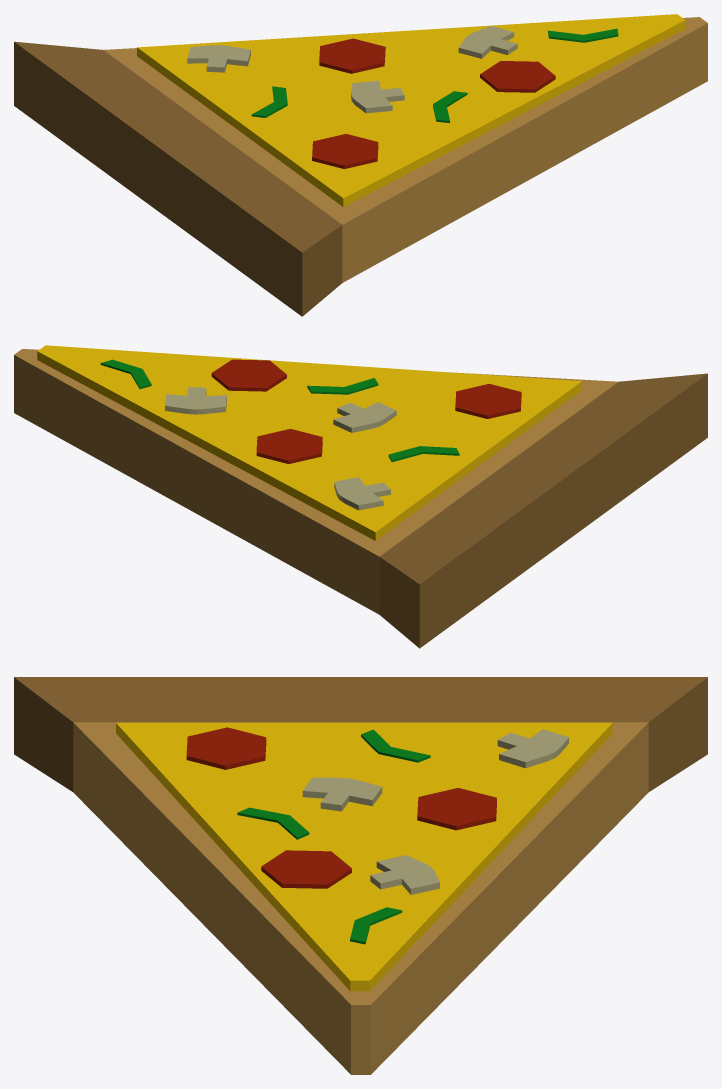
File: Pizza.fbx
3 views of the same model, one above another, from view 1: azimuth 30°, elevation 25°; view 2: azimuth 150°, elevation 25°; view 3: azimuth 270°, elevation 25° (orthographic). The views are drawn at different scales.
Visible parts, largest first — view 1: Pizza; view 2: Pizza; view 3: Pizza.
Part boxes in pixels (x1,y1,x2,y2): Pizza: [14, 14, 707, 316]; Pizza: [14, 345, 707, 648]; Pizza: [14, 677, 707, 1074].
Size of the model in its own units: 23.33 by 2.95 by 21.35.
